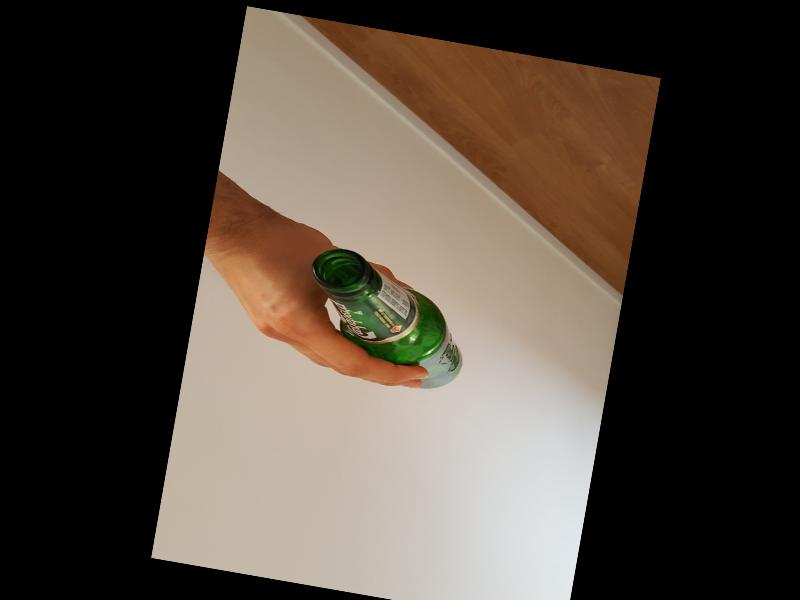Beer: (294, 241, 478, 392)
